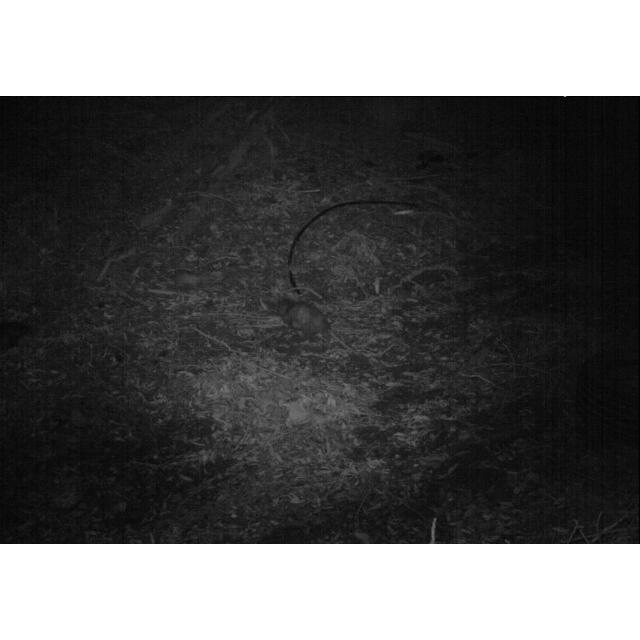animals: (268, 296, 330, 338)
